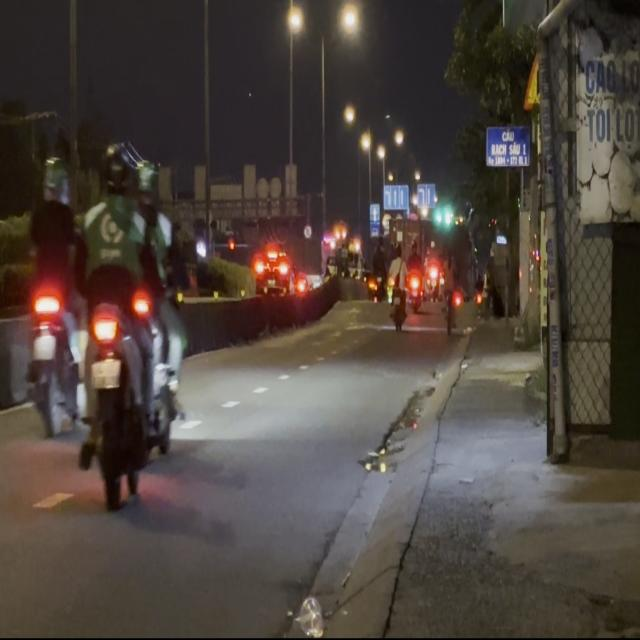helmet: (132, 156, 160, 207), (101, 142, 127, 196), (41, 157, 68, 204)
licenseplate: (74, 137, 187, 504), (22, 148, 84, 435)
nohelmet: (92, 358, 120, 387), (32, 334, 55, 359)
